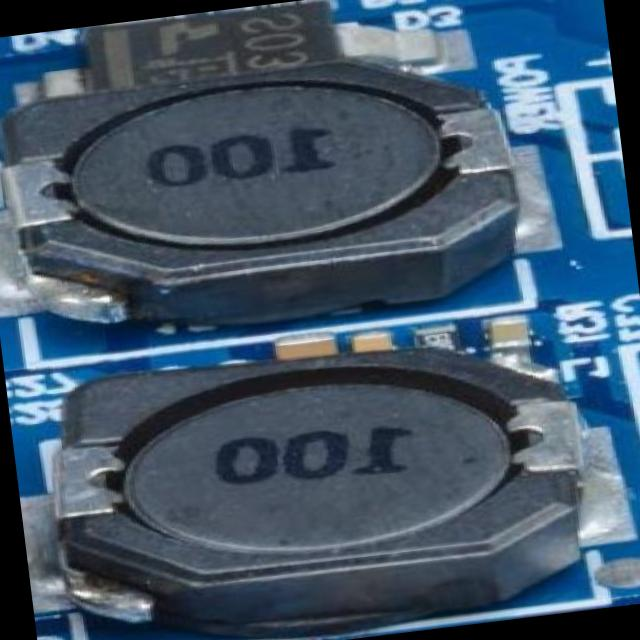capacitor: (482, 314, 536, 360)
diode: (42, 0, 398, 98)
resistor: (415, 315, 473, 352)
